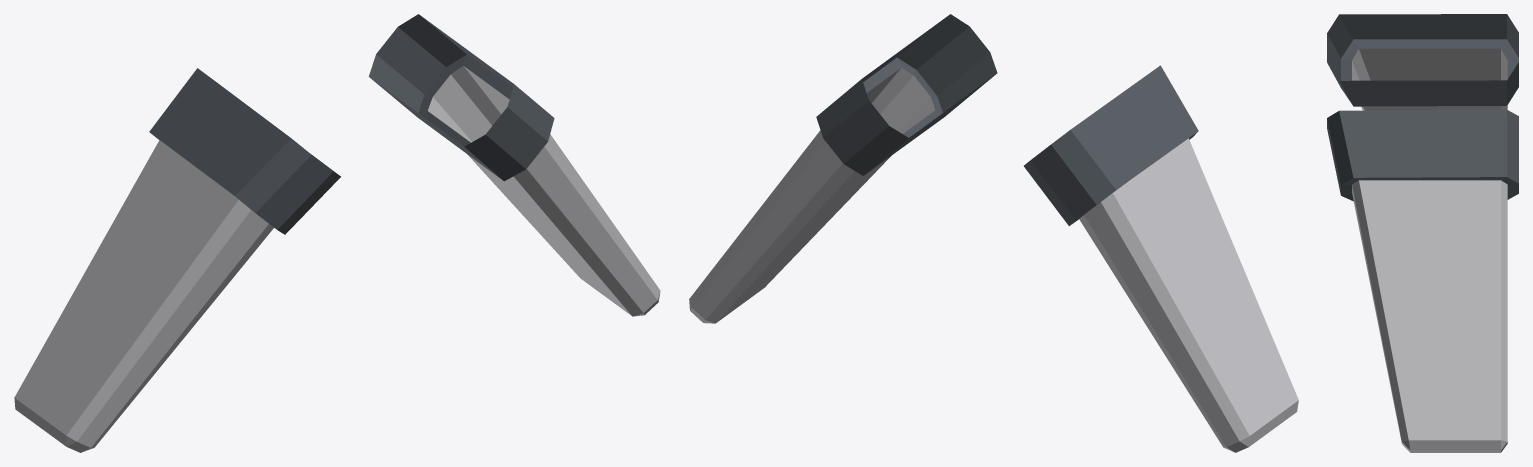
File: Personal_Vehicle_04_Rear_Wings.fbx
3 renders of one model, left to right at view 1: azimuth 30°, elevation 25°; view 2: azimuth 150°, elevation 25°; view 3: azimuth 270°, elevation 25°, orthographic. The views are drawn at different scales.
Parts seen in each view (by area): view 1: Personal_Vehicle_04_Rear_Wings; view 2: Personal_Vehicle_04_Rear_Wings; view 3: Personal_Vehicle_04_Rear_Wings.
Boxes of the visible parts, x1,y1,x2,y2 form: Personal_Vehicle_04_Rear_Wings: (14,14,660,452); Personal_Vehicle_04_Rear_Wings: (689,14,1298,452); Personal_Vehicle_04_Rear_Wings: (1327,14,1518,452).
Size of the model in its own units: 111 by 54.22 by 35.07.
Materials: 1 (1 with a texture image).
